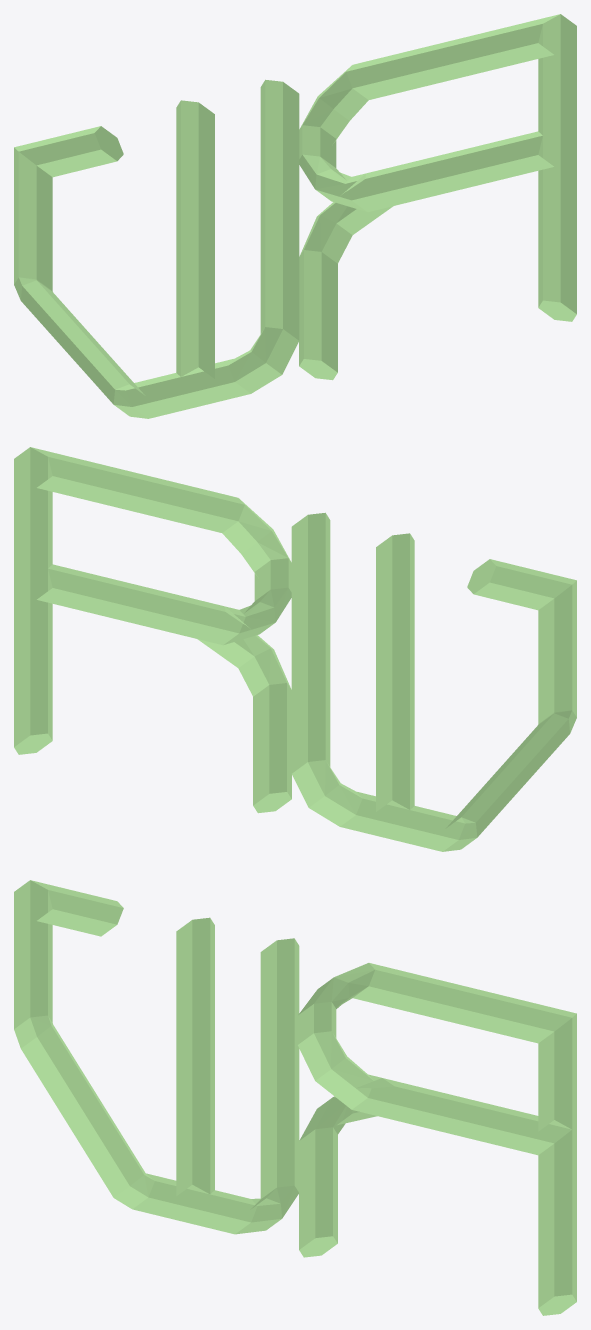
File: ps2_save-icons_robotwarlords.glb
The picture shows the model from 3 angles, top to bottom: view 1: azimuth 30°, elevation 25°; view 2: azimuth 150°, elevation 25°; view 3: azimuth 330°, elevation 25°; orthographic projection.
Parts seen in each view (by area): view 1: SLIME1.ICO; view 2: SLIME1.ICO; view 3: SLIME1.ICO.
Boxes of the visible parts, x1,y1,x2,y2 form: SLIME1.ICO: (14,14,576,418); SLIME1.ICO: (14,447,576,851); SLIME1.ICO: (14,880,576,1315).
Size of the model in its own units: 4.86 by 2.45 by 0.4497.
1 material, 1 textured.
